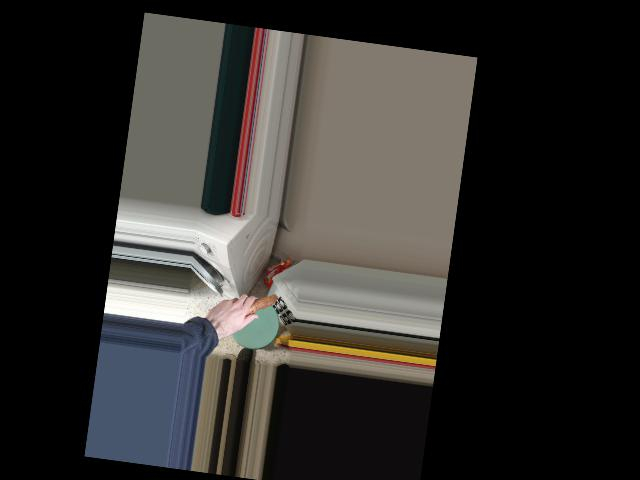sweet_potato: (220, 287, 276, 332)
